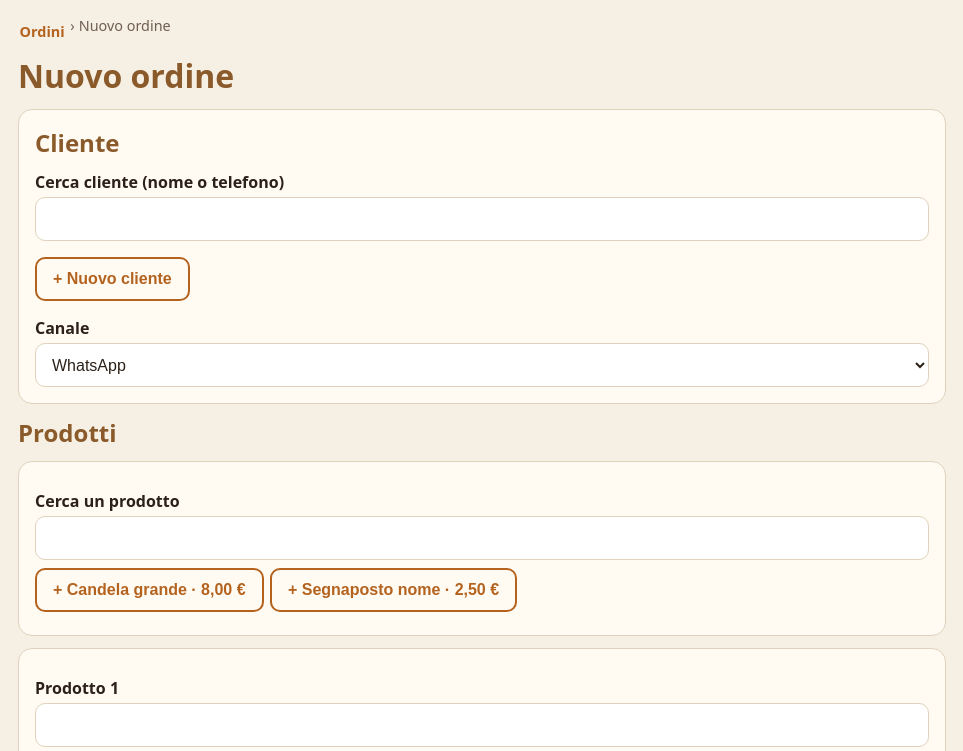
it: costo di spedizione nel modulo ordine › un importo non valido blocca il salvataggio con un messaggio chiaro
In the field labelled "Cerca cliente (nome o telefono)": x=482, y=219 [35,197,929,241], type "mar"
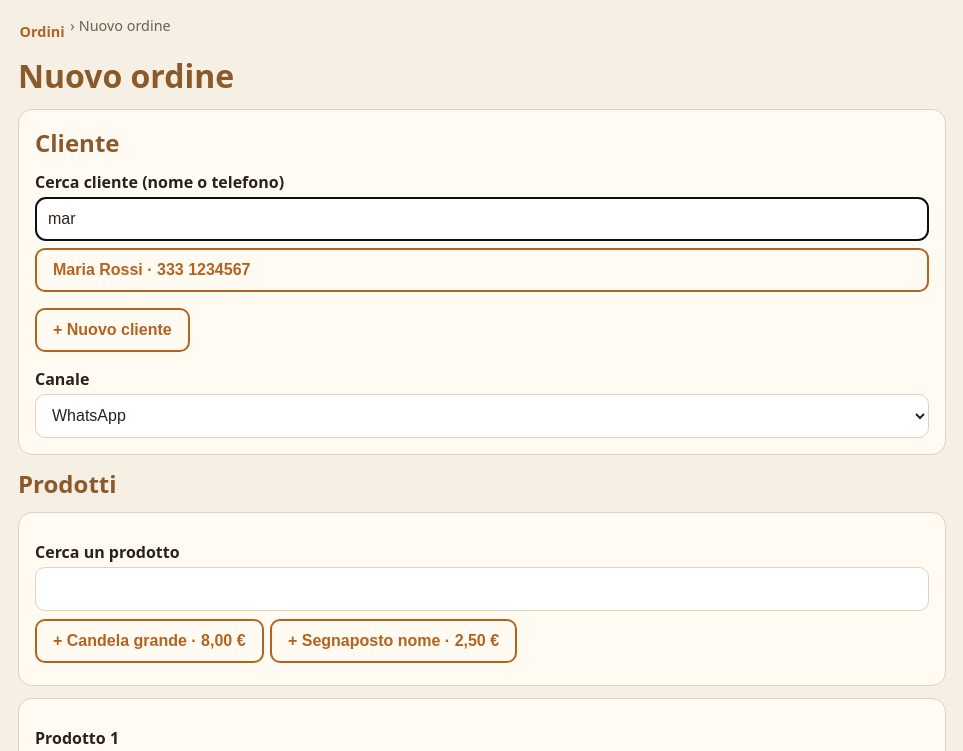
Click the button "Maria Rossi · 333 1234567": x=98, y=269 [35,248,929,292]
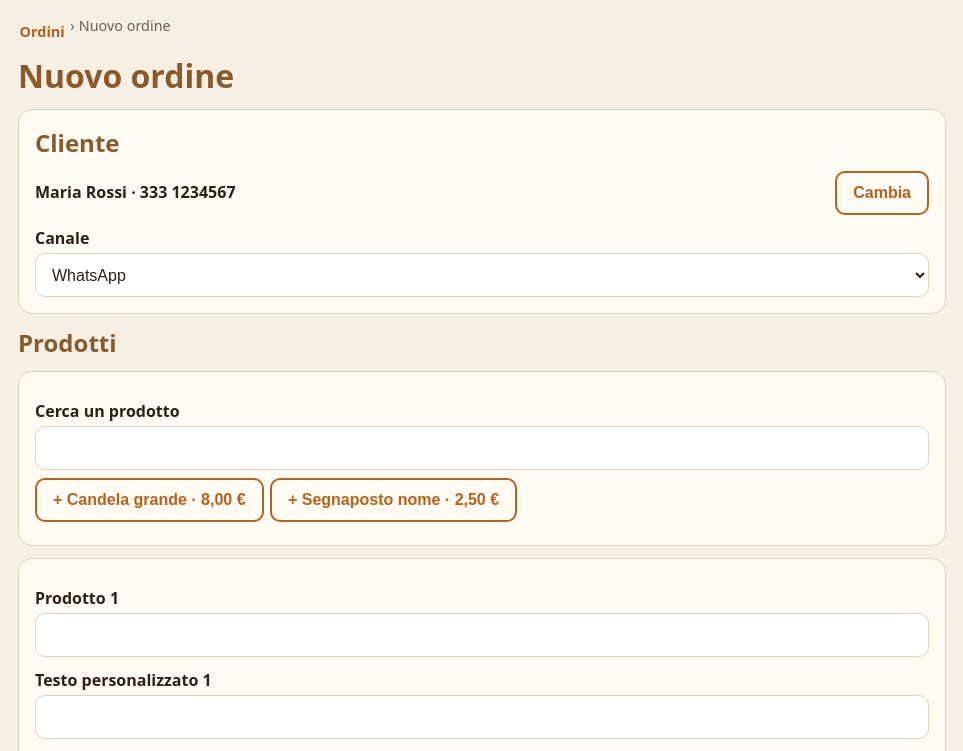
In the field labelled "Prodotto 1": x=482, y=635 [35,613,929,657], type "Candela"
(page scrolled)
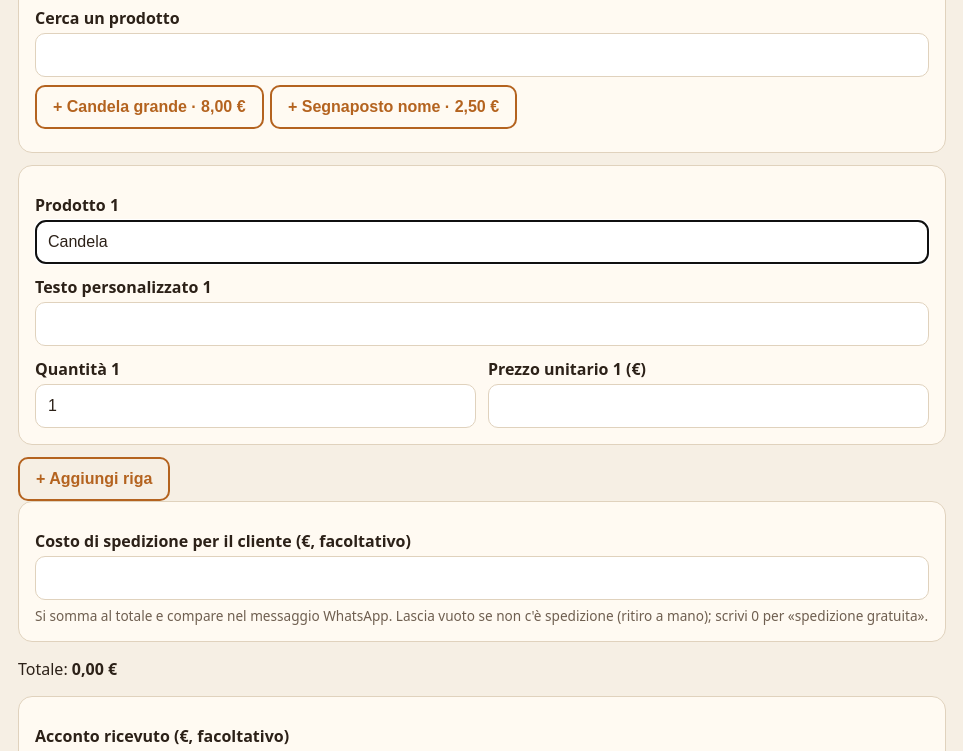
In the field labelled "Prezzo unitario 1 (€)": x=708, y=406 [488,384,929,428], type "17,50"
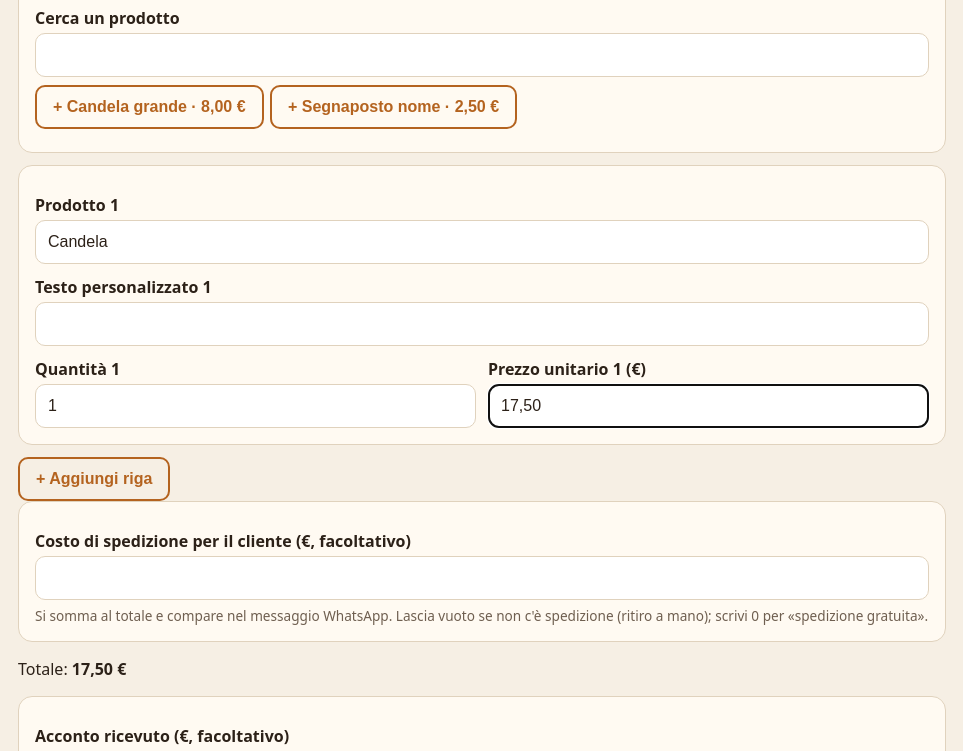
In the field labelled "Costo di spedizione per il cliente (€, facoltativo)": x=482, y=578 [35,556,929,600], type "abc"
(page scrolled)
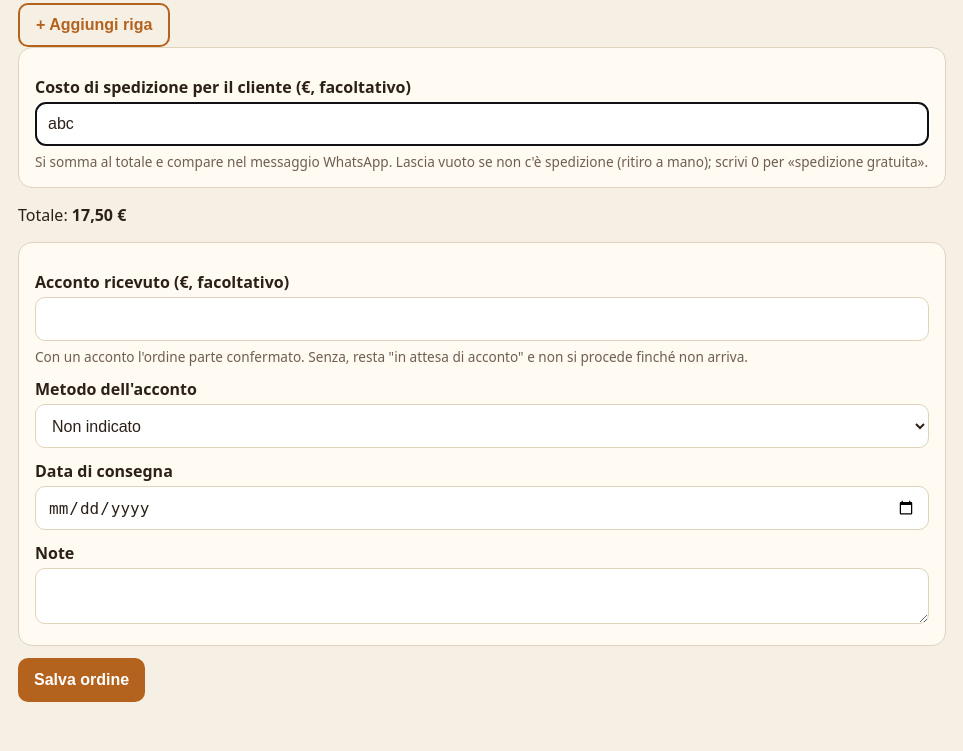
Click the button "Salva ordine": x=82, y=680 [18,658,145,702]
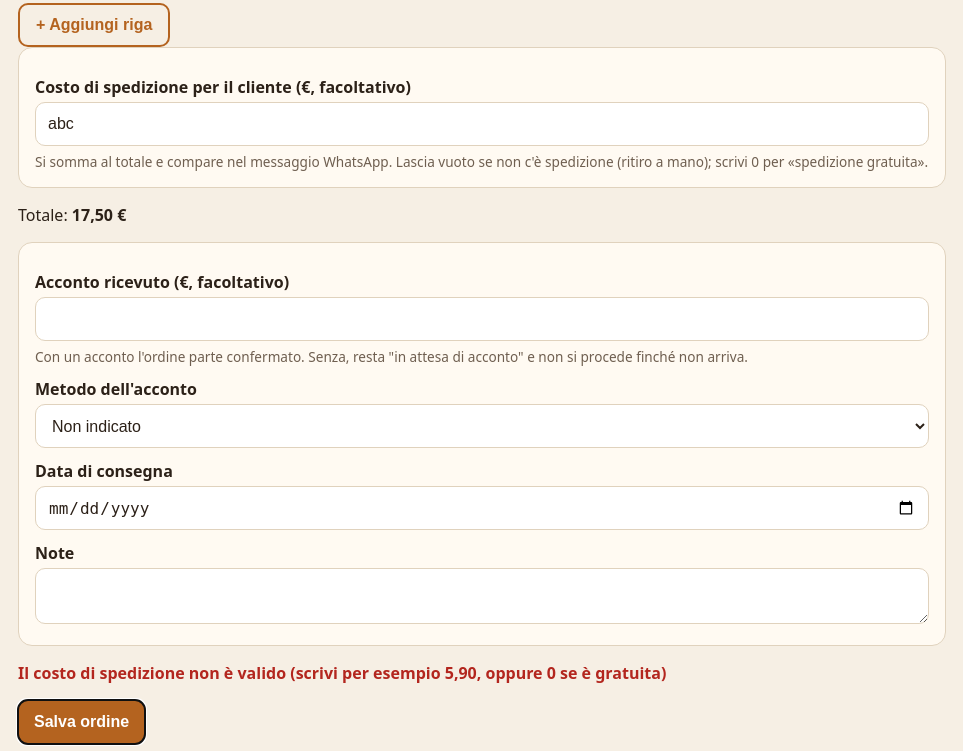
Now the text "costo di spedizione non è valido" is shown, box [18,662,666,684]
